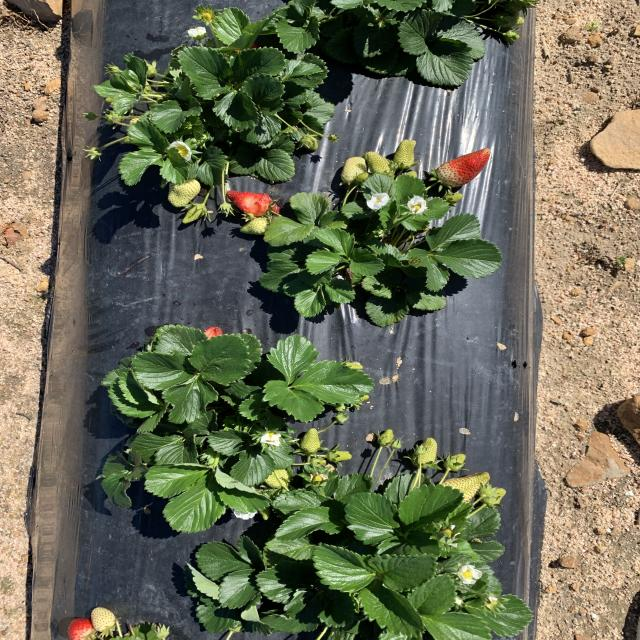unripe: (435, 147, 497, 187), (223, 188, 285, 220), (194, 321, 233, 353), (64, 615, 104, 640)
